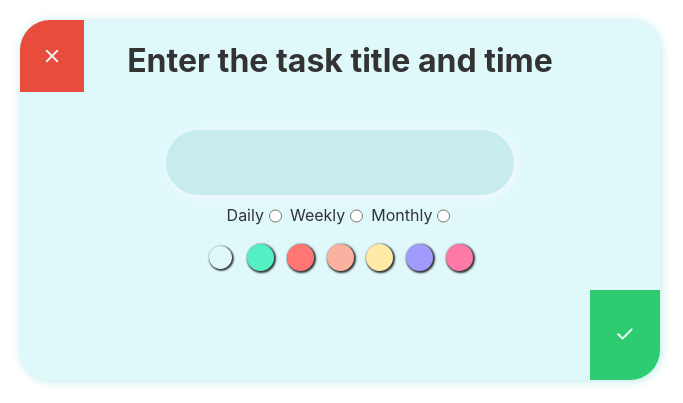
Test: AddModal › shows error when submitting without selecting time period
Type "New Task" into the field at (340, 162), box [166,130,514,194]
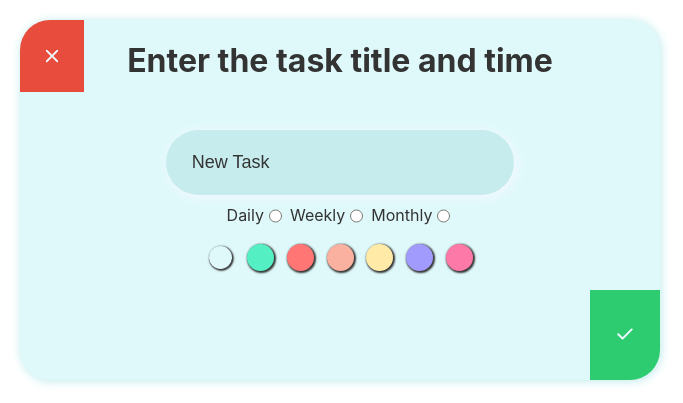
Click the 2nd button at (625, 335), box [590,290,660,380]
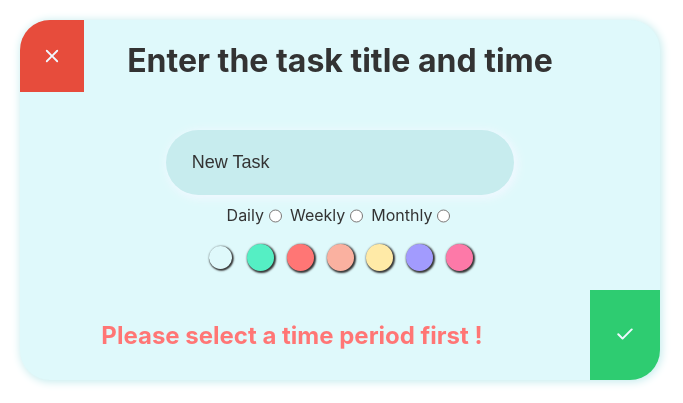
Expected: the heading "Please select a time period first !" is shown, [101,320,483,350]
